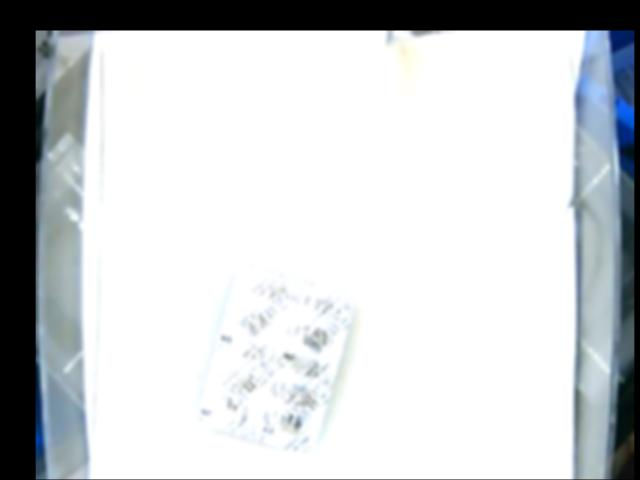Medicine: (194, 267, 352, 455)
